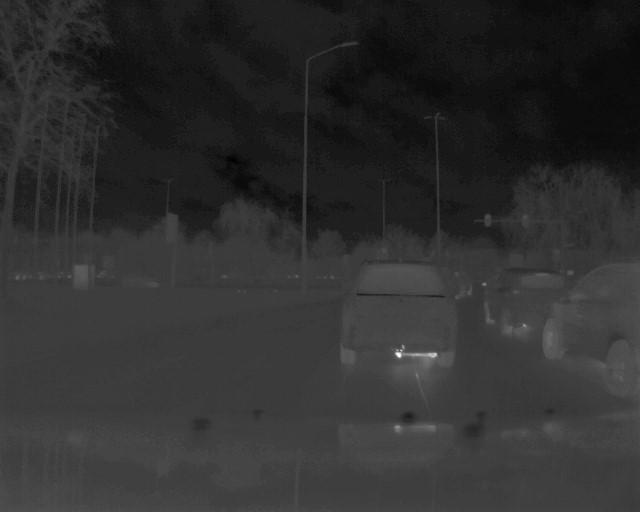car: (339, 254, 459, 371), (542, 256, 640, 396), (483, 263, 545, 337)
